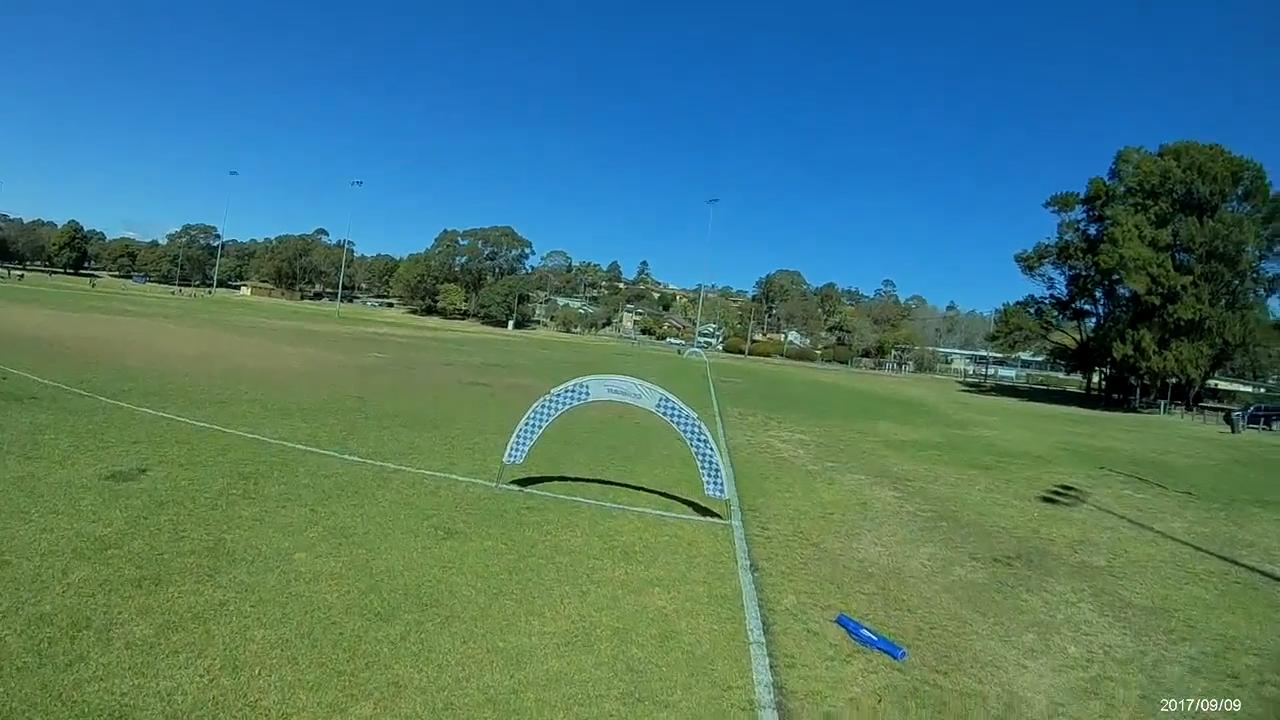gate: (505, 376, 725, 500)
